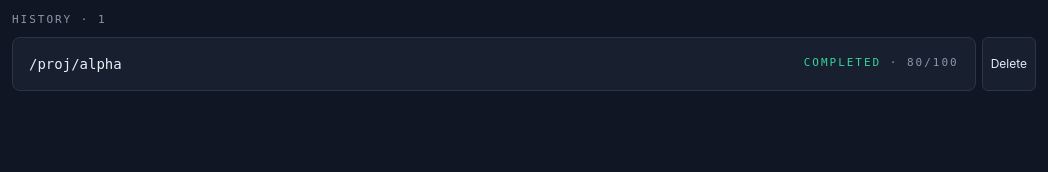
it: History — exclusão › UI-01: clicar em excluir não abre a auditoria e pede confirmação
Step 1. Click the button with aria-label "Delete audit of /proj/alpha" → (1009, 64), box [982,36,1036,90]
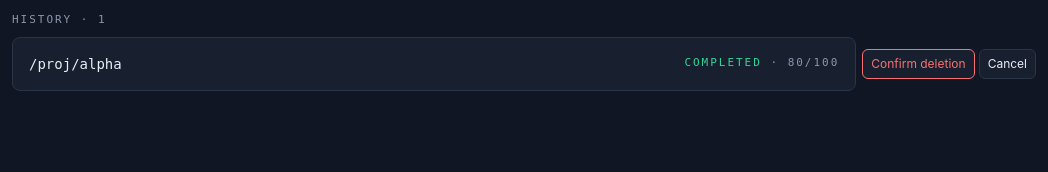
Check: the button "Confirm deletion" is shown, box [862,48,975,78]
